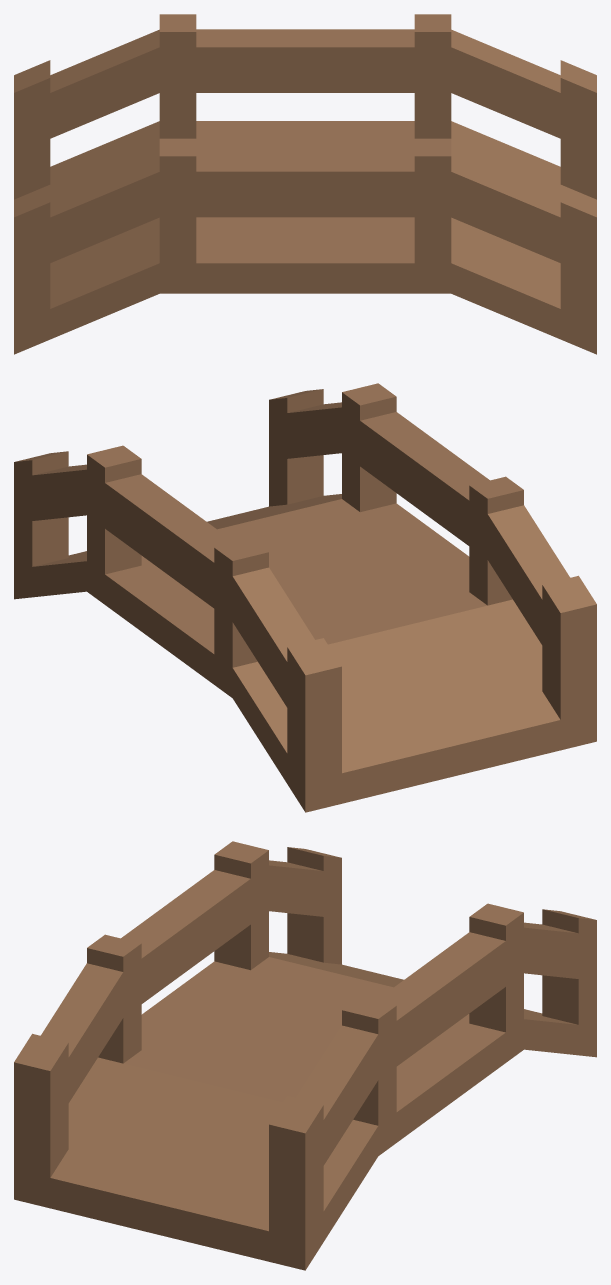
Rendered from bridge1.fbx.
The picture shows the model from 3 angles, top to bottom: view 1: azimuth 30°, elevation 25°; view 2: azimuth 150°, elevation 25°; view 3: azimuth 270°, elevation 25°; orthographic projection.
Parts seen in each view (by area): view 1: Cylinder; view 2: Cylinder; view 3: Cylinder.
Boxes of the visible parts, x1=… form: Cylinder: x1=14, y1=14, x2=596, y2=354; Cylinder: x1=14, y1=383, x2=596, y2=812; Cylinder: x1=14, y1=841, x2=596, y2=1270.
Bounding box in the file's own units: 2 × 0.65 × 1.73.
